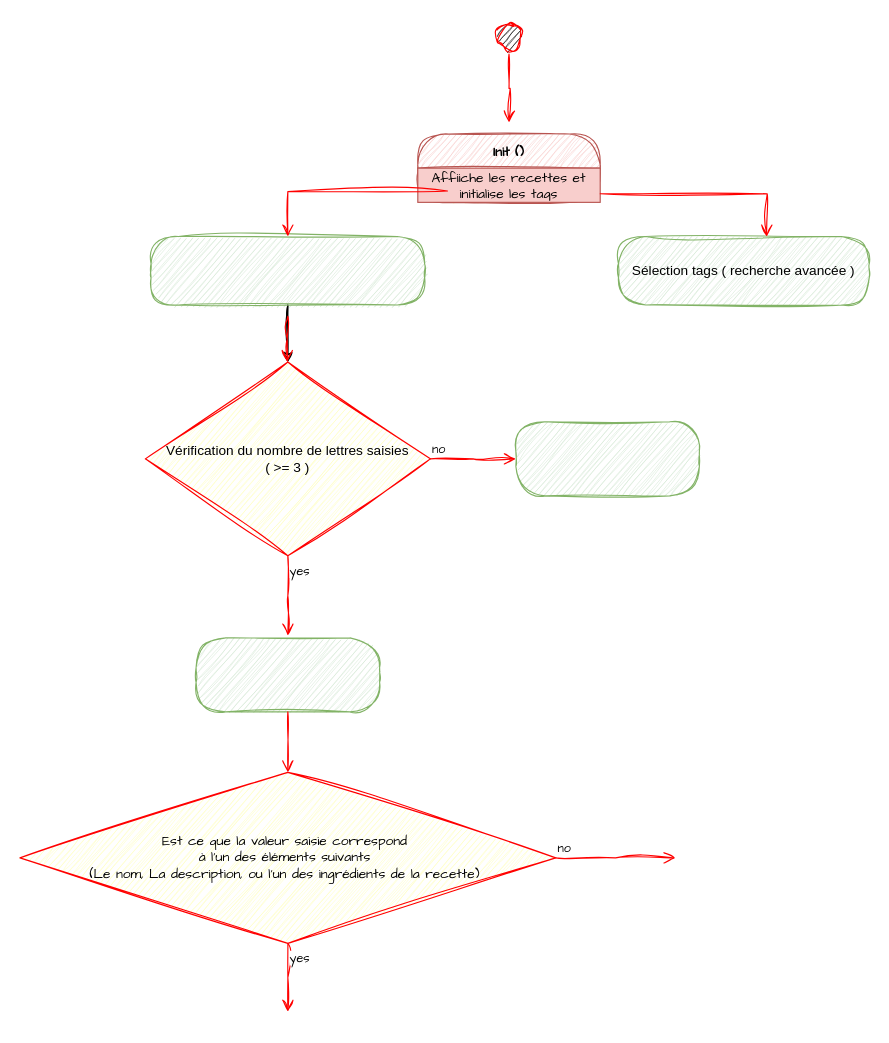
Image size: 889x1043. Some labels were removed from this diagram. Each missing label, with the box of its shape:
Parcourir la liste des recettes: (195, 637, 380, 712)
Recherche réinitialisée: (515, 421, 699, 496)
Récupération de la valeur dans la barre de recherche ( recherche simple): (150, 235, 425, 305)
